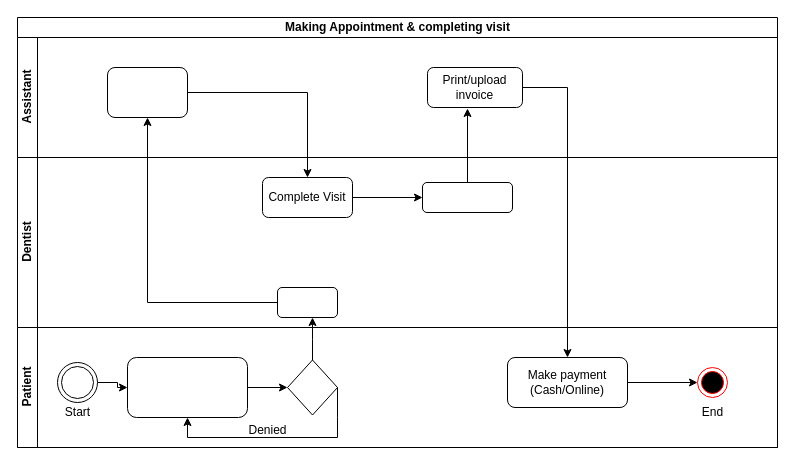
This 795x465 diagram has some shape labels left out. The shapes that lost their labels are listed below. From the top down, each one's centre as x and y in pixels, then its label:
pixel 147 92: Update availability schedule
pixel 467 197: Upload report
pixel 307 302: Approved
pixel 187 387: Find & Request Appointment
